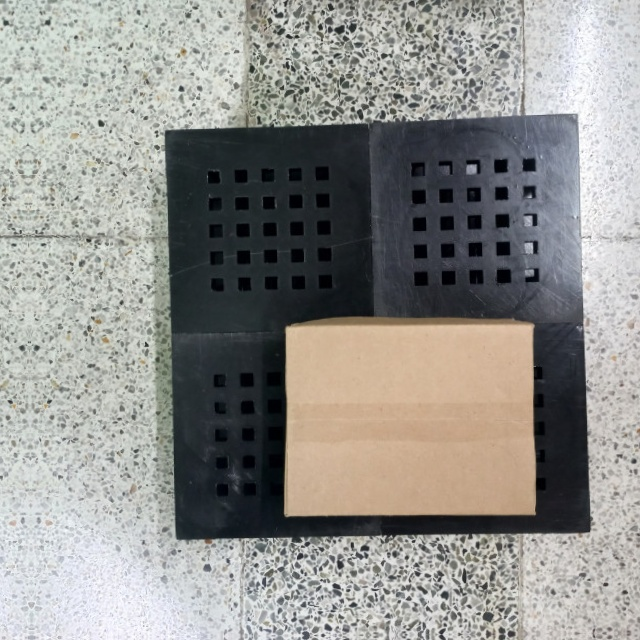box: (280, 314, 538, 518)
pallet: (161, 110, 591, 535)
